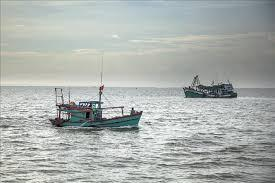Ship: (51, 89, 143, 129), (184, 76, 238, 99)
